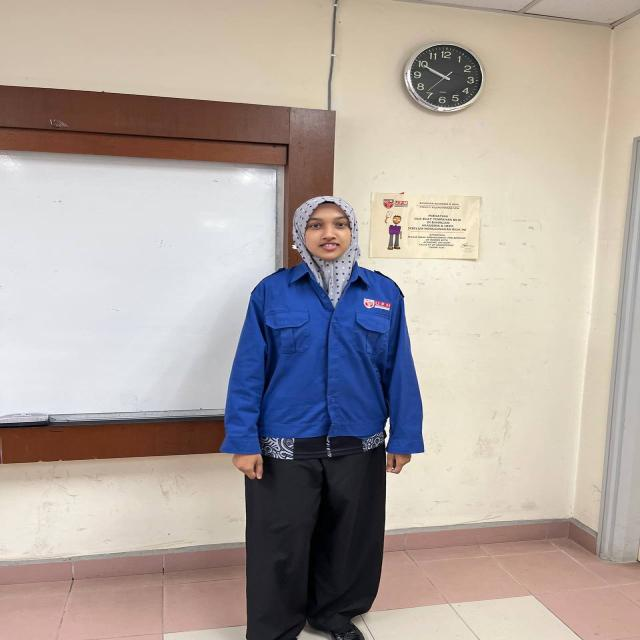person_with_labcoat: (221, 196, 423, 640)
